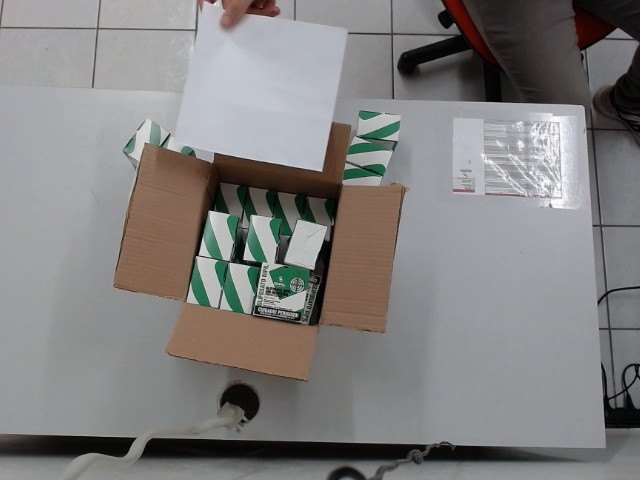divisor: (175, 2, 351, 174)
item: (249, 260, 317, 328), (117, 114, 171, 171), (216, 258, 261, 317), (283, 216, 329, 272), (185, 254, 228, 309), (356, 106, 405, 151), (242, 212, 281, 267), (343, 135, 395, 176), (200, 210, 241, 261), (338, 162, 387, 194), (211, 175, 247, 218), (305, 192, 342, 233), (159, 133, 202, 164), (245, 187, 280, 223), (277, 189, 311, 226)
